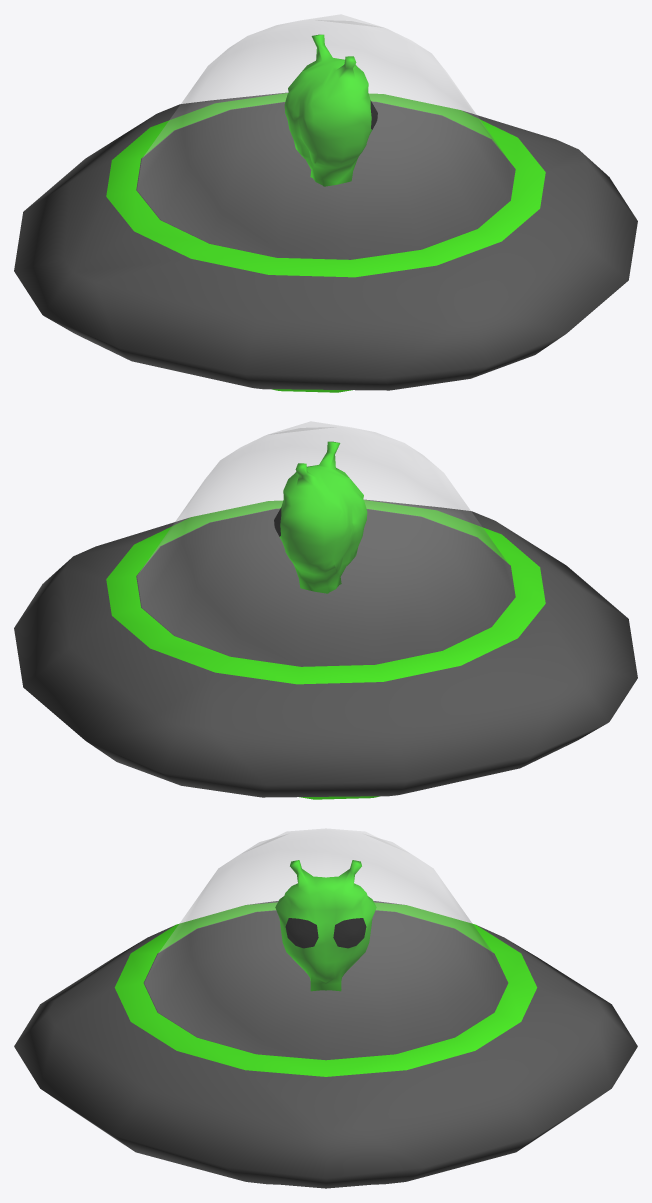
File: UFO.fbx
The picture shows the model from 3 angles, top to bottom: view 1: azimuth 30°, elevation 25°; view 2: azimuth 150°, elevation 25°; view 3: azimuth 270°, elevation 25°; orthographic projection. The views are drawn at different scales.
Visible parts, largest first — view 1: UFO, UFOGlass, Alien; view 2: UFO, UFOGlass, Alien; view 3: UFO, UFOGlass, Alien.
Boxes of the visible parts, x1,y1,x2,y2 form: UFO: (14,92,637,392); UFOGlass: (137,14,514,258); Alien: (284,34,377,186); UFO: (14,499,637,799); UFOGlass: (137,421,514,665); Alien: (274,441,367,593); UFO: (14,901,637,1188); UFOGlass: (145,828,506,1059); Alien: (275,860,376,991).
Size of the model in its own units: 5.14 by 2.56 by 5.14.
